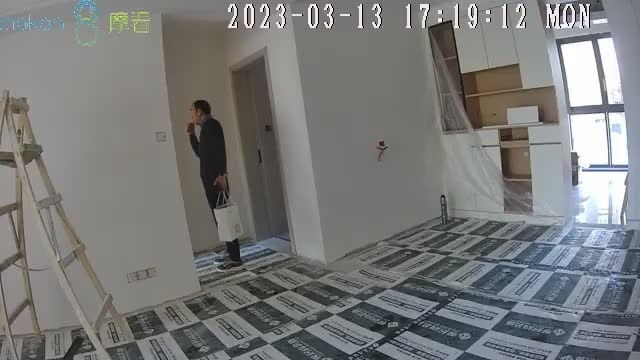people: (186, 98, 241, 272)
window: (558, 38, 627, 172)
